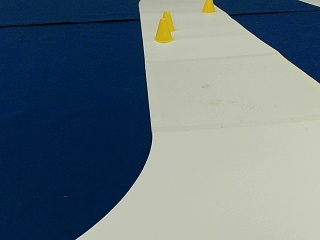cone: (154, 18, 173, 42), (161, 10, 174, 29), (201, 0, 214, 12)
